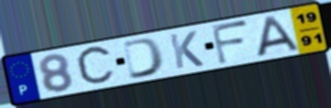8: (37, 52, 76, 94)
A: (256, 14, 302, 59)
C: (73, 43, 117, 89)
D: (121, 36, 167, 81)
F: (209, 19, 252, 67)
K: (167, 29, 206, 70)
